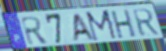7: (43, 13, 64, 46)
A: (72, 12, 96, 43)
H: (111, 8, 138, 40)
M: (84, 9, 119, 43)
R: (19, 15, 51, 47), (131, 8, 161, 38)
